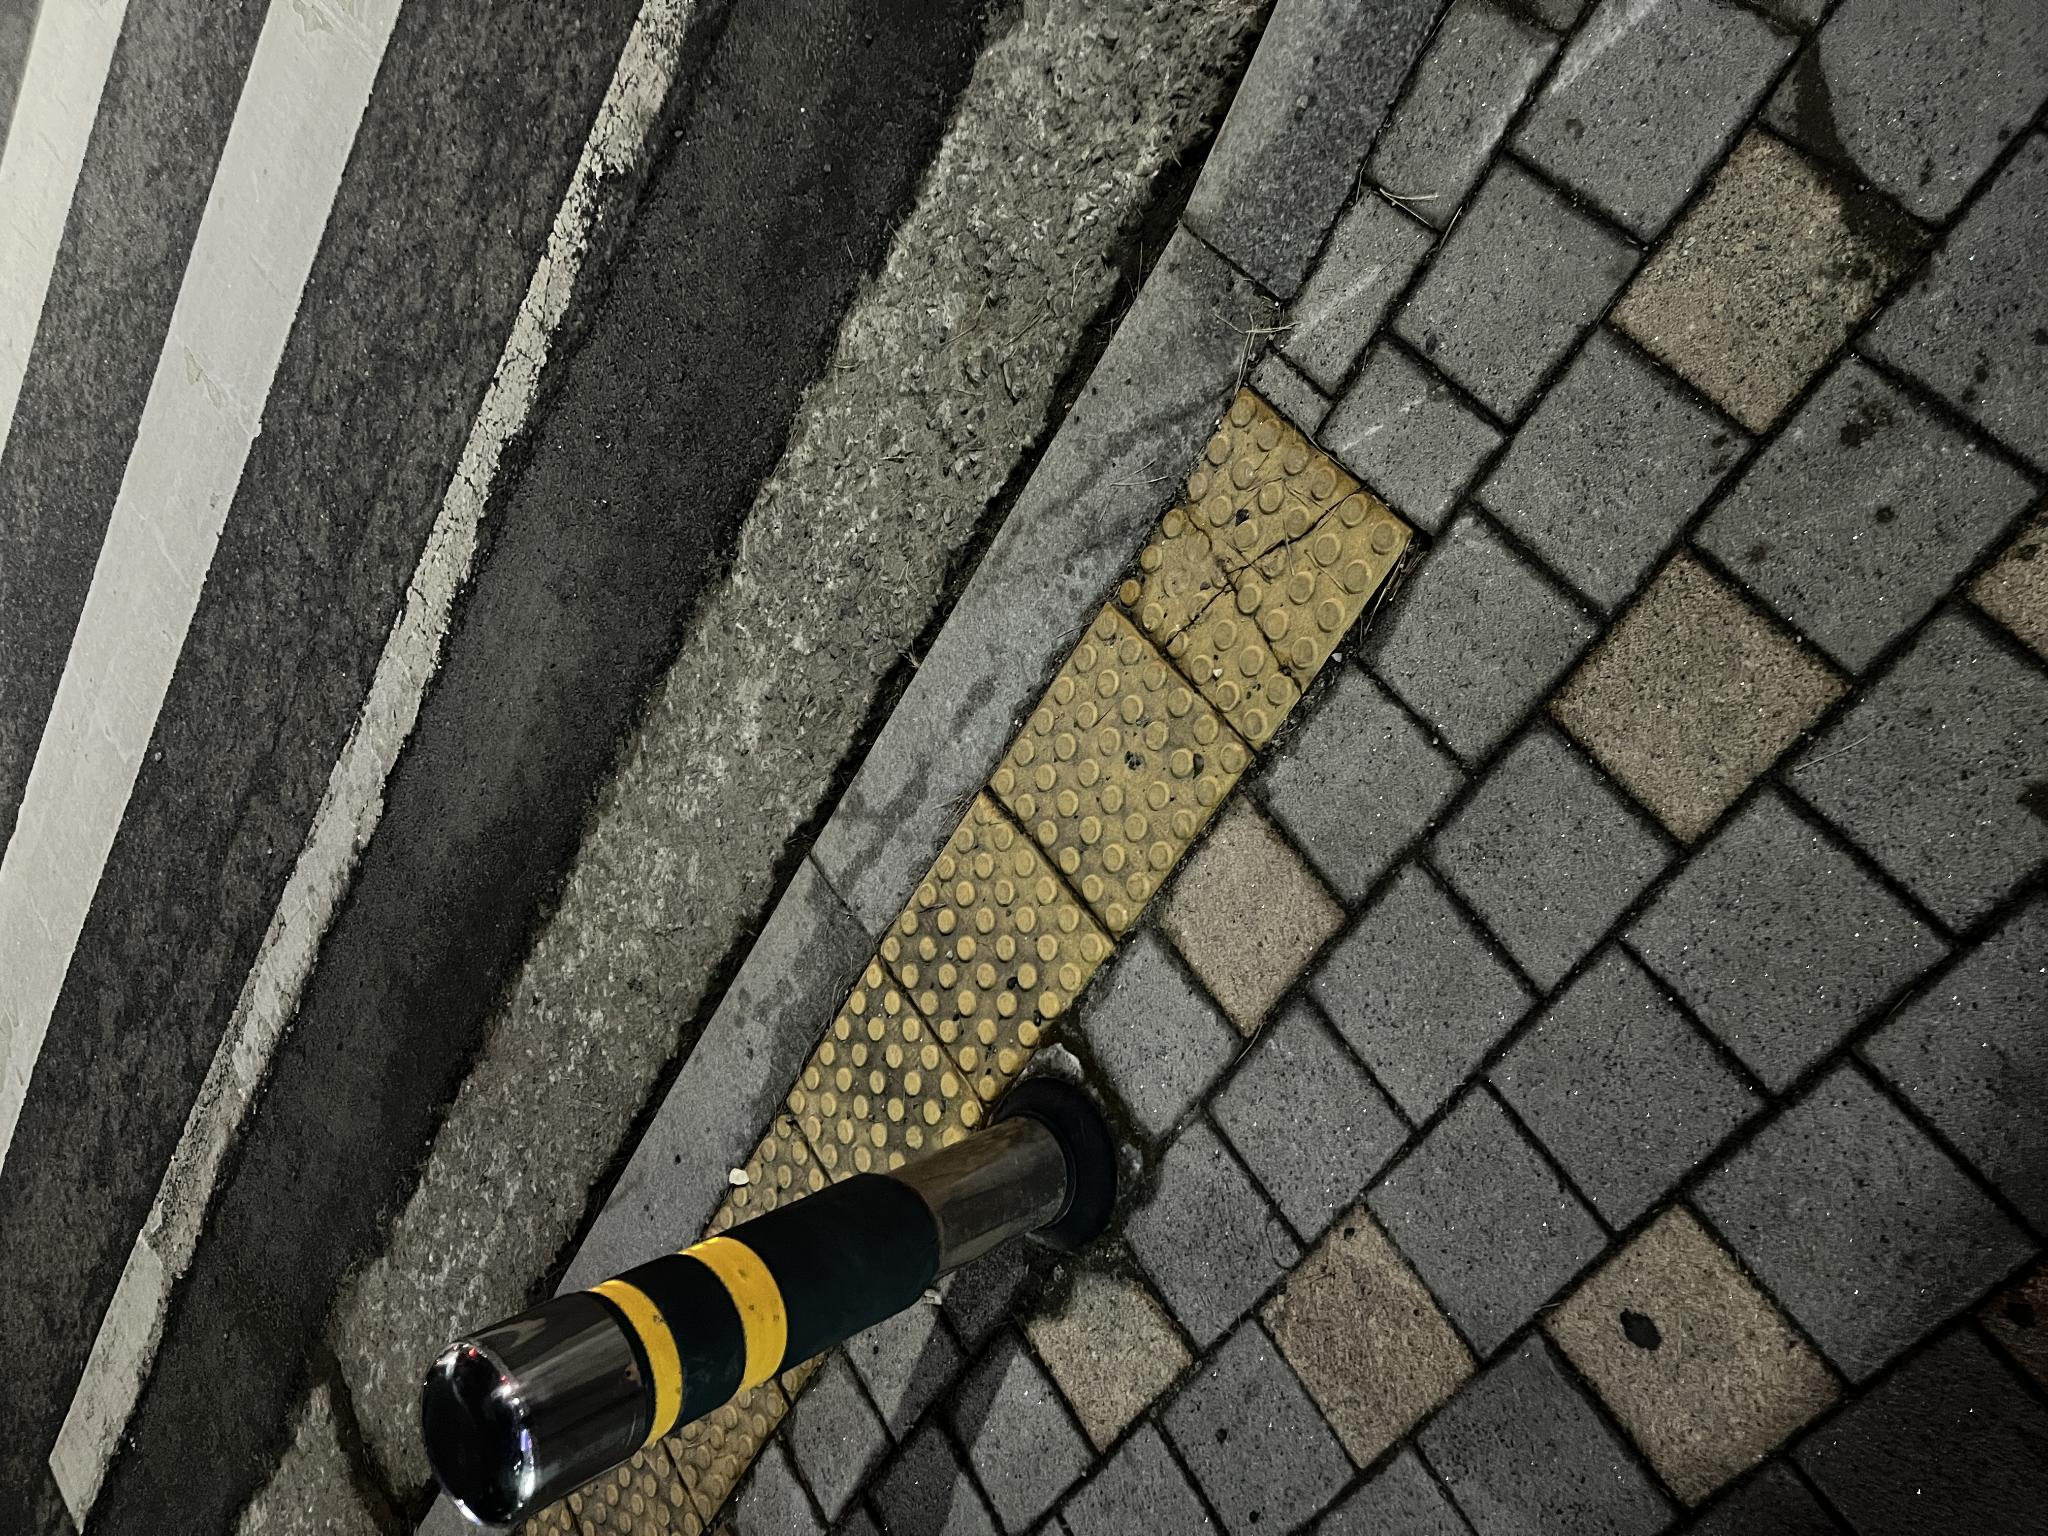Stop block broken: (785, 1113, 1148, 1413)
Stop block normal: (600, 989, 932, 1250), (435, 881, 739, 1108)
